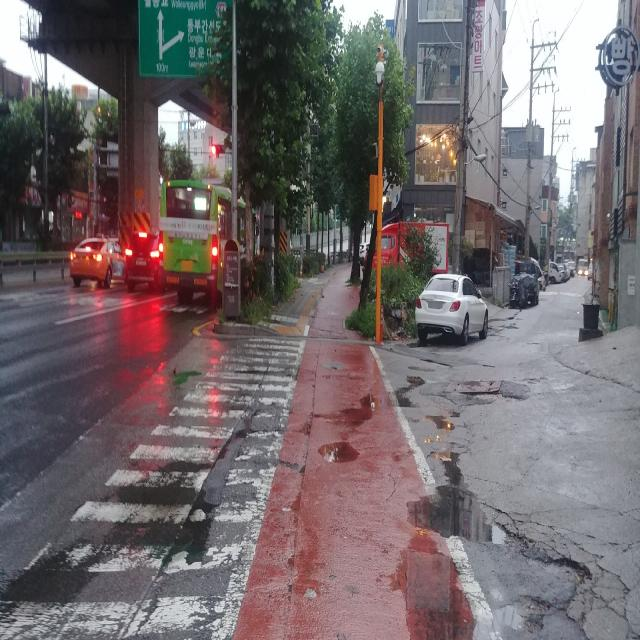횡단보도: (0, 338, 306, 640)
